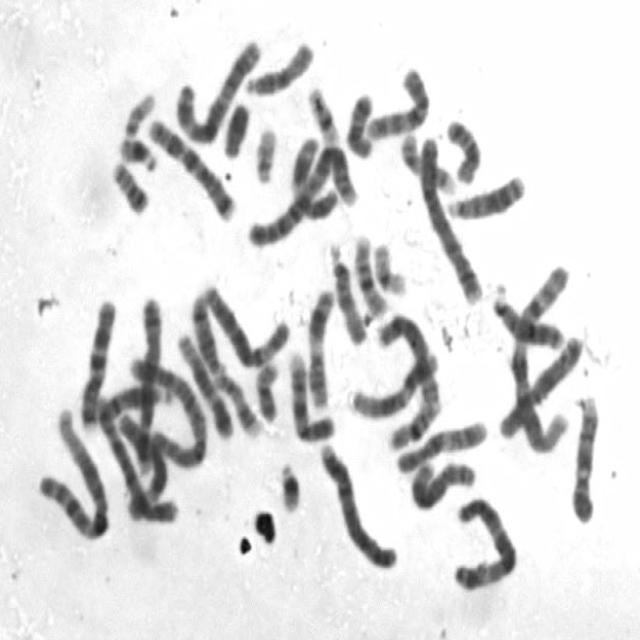A1: (502, 256, 574, 454), (30, 400, 111, 543)
A2: (244, 137, 362, 249), (120, 345, 209, 472)
A3: (170, 31, 264, 146), (448, 489, 519, 593)
B4: (414, 128, 485, 306), (314, 434, 400, 572)
B5: (91, 394, 183, 526), (131, 288, 166, 481)
C10: (391, 412, 490, 476), (361, 59, 432, 142)
C11: (286, 128, 338, 222), (303, 282, 338, 412)
C12: (171, 324, 236, 442), (345, 344, 439, 421)
C6: (198, 277, 292, 371), (118, 408, 170, 522)
C7: (144, 111, 238, 223), (74, 291, 119, 434)
C8: (370, 306, 442, 410), (407, 452, 479, 511)
C9: (282, 344, 336, 444), (566, 387, 602, 525)
D13: (488, 277, 566, 352), (442, 166, 528, 222)
D14: (96, 381, 173, 425), (188, 287, 226, 375)
D15: (240, 34, 318, 98), (324, 238, 368, 346)
E16: (349, 227, 389, 320), (383, 392, 443, 452)
E17: (395, 126, 458, 197), (209, 363, 263, 439)
E18: (442, 111, 484, 184), (341, 84, 377, 160)
F19: (368, 235, 409, 298), (303, 79, 342, 145)
F20: (106, 154, 152, 216), (251, 355, 283, 424)
G21: (114, 129, 160, 173), (274, 453, 304, 515)
G22: (119, 84, 158, 138), (249, 118, 279, 186)
X: (494, 327, 586, 442)
Y: (218, 94, 253, 160)
